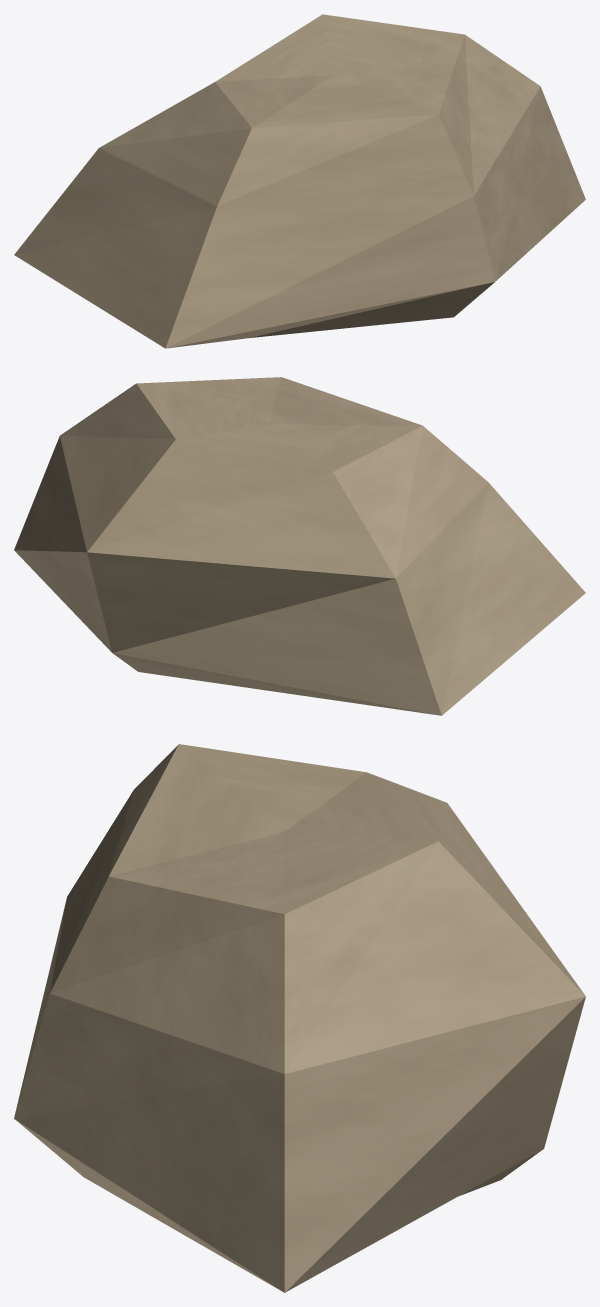
The model's file is SM_CN_Caliche_B_LOD2.fbx.
3 views of the same model, one above another, from view 1: azimuth 30°, elevation 25°; view 2: azimuth 150°, elevation 25°; view 3: azimuth 270°, elevation 25° (orthographic). The views are drawn at different scales.
Parts seen in each view (by area): view 1: SM_CN_Caliche_B_LOD2; view 2: SM_CN_Caliche_B_LOD2; view 3: SM_CN_Caliche_B_LOD2.
Boxes of the visible parts, <box> form: SM_CN_Caliche_B_LOD2: <box>14,14,585,348</box>; SM_CN_Caliche_B_LOD2: <box>14,377,585,715</box>; SM_CN_Caliche_B_LOD2: <box>14,744,585,1292</box>.
Size of the model in its own units: 0.88 by 0.5867 by 0.37.
